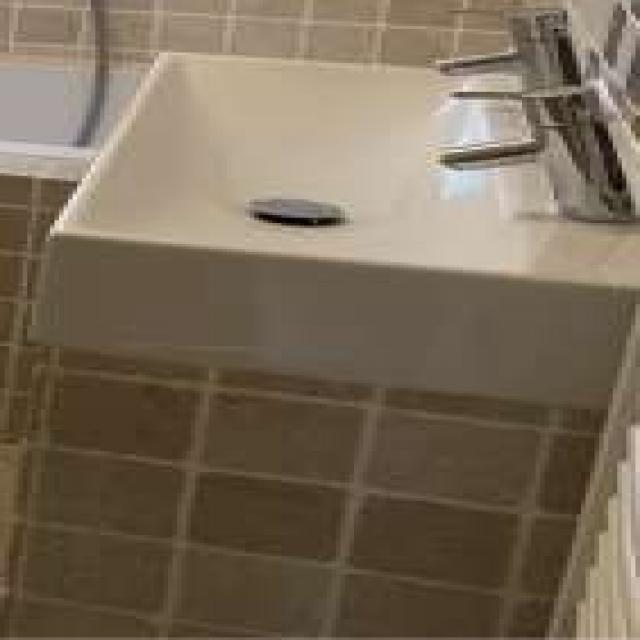wastafel: (32, 1, 640, 406), (0, 47, 154, 186)
